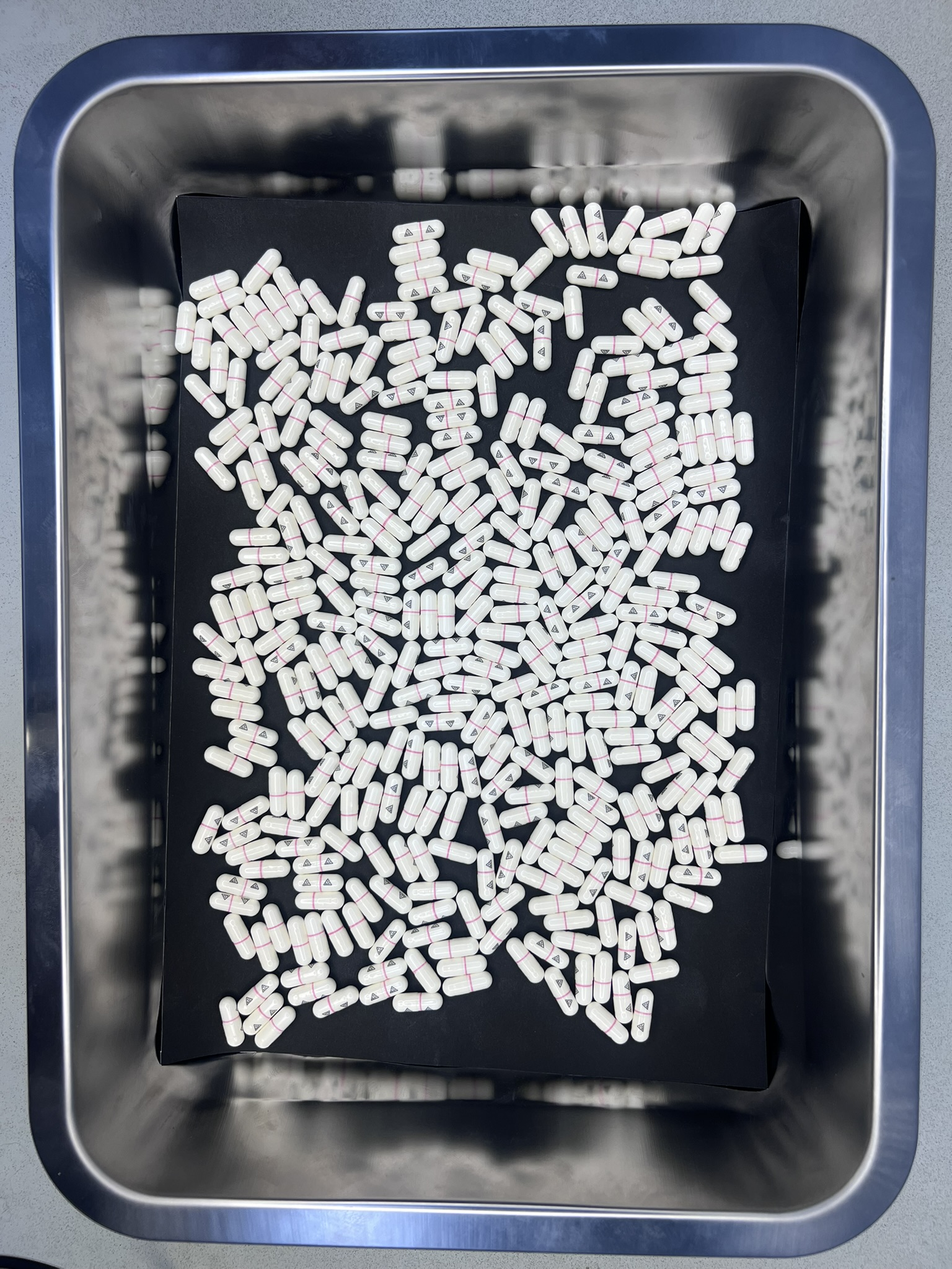Capsule: (194, 446, 237, 497), (689, 279, 736, 324), (185, 374, 227, 424), (691, 310, 738, 354), (208, 406, 255, 449), (397, 474, 436, 525), (236, 971, 281, 1015), (241, 992, 286, 1036), (676, 645, 721, 689), (538, 422, 585, 464), (306, 409, 354, 450), (687, 635, 735, 676), (530, 208, 569, 258), (561, 584, 606, 627), (486, 294, 533, 335), (524, 619, 565, 666), (489, 319, 529, 367), (409, 488, 449, 536), (506, 937, 546, 985), (642, 493, 690, 533), (633, 638, 682, 677), (475, 331, 514, 380), (683, 203, 719, 256), (582, 448, 635, 484), (241, 249, 284, 293), (676, 671, 719, 715), (552, 564, 596, 607), (211, 313, 253, 358), (478, 910, 520, 955), (702, 201, 737, 255), (657, 699, 699, 744), (609, 205, 646, 256), (634, 456, 685, 493), (641, 298, 682, 344), (280, 450, 321, 496), (193, 623, 239, 664), (303, 428, 349, 469), (243, 294, 283, 341), (300, 278, 338, 327), (253, 1004, 296, 1047), (586, 1002, 629, 1045), (437, 482, 480, 525), (480, 762, 522, 806), (644, 685, 686, 729), (622, 307, 666, 349), (360, 517, 405, 558), (656, 767, 697, 812), (676, 732, 721, 773), (271, 370, 311, 416), (454, 565, 494, 611), (317, 573, 357, 619), (621, 422, 672, 458), (272, 266, 308, 317), (260, 357, 299, 404), (368, 918, 407, 965), (566, 804, 613, 843), (509, 745, 556, 784), (302, 752, 341, 799), (254, 618, 301, 657), (254, 332, 302, 370), (320, 694, 358, 742), (208, 592, 241, 647), (512, 247, 554, 290), (454, 595, 496, 638), (341, 375, 385, 416), (564, 524, 605, 568), (355, 625, 399, 666), (545, 965, 579, 1018), (263, 633, 308, 673), (397, 442, 433, 492), (404, 948, 443, 994), (523, 930, 569, 969), (598, 568, 637, 614), (441, 549, 487, 588), (229, 304, 268, 350), (406, 523, 453, 561), (278, 398, 313, 449), (452, 261, 506, 294), (386, 354, 438, 388), (203, 745, 255, 779), (191, 804, 225, 856), (188, 268, 240, 302), (210, 821, 262, 855), (719, 748, 755, 797), (221, 794, 270, 830), (413, 788, 449, 837), (218, 423, 260, 465), (299, 446, 341, 488), (368, 874, 411, 915), (455, 494, 498, 535), (481, 881, 525, 921), (689, 720, 733, 760), (678, 771, 717, 816), (449, 521, 494, 560), (635, 476, 685, 511), (460, 698, 497, 745), (318, 631, 355, 678), (257, 483, 294, 530), (710, 501, 742, 555), (634, 529, 670, 577), (530, 494, 566, 542), (319, 822, 362, 862), (345, 878, 384, 922), (577, 856, 612, 905), (521, 817, 556, 866), (631, 437, 680, 472), (573, 786, 618, 824), (655, 334, 710, 365), (358, 831, 395, 877), (573, 766, 619, 803), (351, 335, 385, 385), (305, 642, 339, 692), (639, 207, 692, 239), (473, 710, 509, 757), (719, 522, 752, 573), (604, 880, 655, 913), (491, 509, 532, 550), (517, 641, 557, 683), (369, 502, 411, 542), (306, 543, 349, 582), (455, 305, 486, 359), (260, 283, 297, 328), (556, 820, 602, 856), (305, 780, 341, 826), (632, 783, 665, 833), (531, 542, 564, 592), (442, 457, 489, 492), (306, 712, 346, 753), (288, 718, 326, 761), (344, 901, 378, 949), (668, 607, 719, 639), (341, 634, 375, 682), (390, 639, 422, 690), (402, 556, 450, 590), (305, 352, 335, 406), (587, 492, 623, 537), (352, 740, 385, 789), (537, 595, 570, 644), (595, 540, 630, 586), (491, 441, 526, 487), (321, 910, 353, 960), (360, 975, 410, 1007), (641, 752, 691, 784), (312, 986, 359, 1020), (575, 507, 613, 549), (438, 791, 468, 844), (609, 388, 662, 418), (277, 509, 307, 562), (363, 664, 396, 712), (427, 445, 475, 478), (547, 839, 595, 872), (486, 467, 519, 515), (668, 507, 699, 558), (539, 471, 590, 502), (456, 888, 487, 939), (617, 791, 648, 842), (388, 335, 439, 366), (235, 638, 267, 687), (237, 455, 266, 509), (567, 348, 596, 402), (263, 905, 292, 959), (538, 853, 584, 887), (623, 402, 675, 432), (559, 206, 589, 258), (689, 504, 719, 556), (585, 727, 615, 779), (359, 467, 398, 507), (334, 737, 367, 784), (606, 620, 637, 670), (228, 589, 259, 639), (494, 837, 523, 890), (223, 913, 255, 961), (324, 352, 354, 403), (392, 678, 443, 708), (471, 639, 522, 669), (248, 441, 278, 492), (389, 834, 420, 883), (521, 678, 570, 709), (692, 595, 738, 628), (431, 285, 485, 313), (435, 307, 463, 361), (254, 401, 281, 457), (227, 737, 274, 769), (518, 397, 548, 447), (663, 883, 713, 913), (225, 837, 275, 867), (629, 665, 659, 715), (489, 673, 539, 703), (587, 472, 637, 502), (480, 735, 514, 779), (515, 290, 563, 321), (580, 372, 608, 425), (676, 371, 733, 397), (321, 494, 358, 534), (247, 582, 276, 633), (398, 787, 428, 836), (276, 667, 306, 716), (291, 495, 321, 544), (377, 725, 408, 772), (338, 276, 366, 328), (341, 468, 369, 520), (378, 379, 428, 408), (612, 661, 641, 711), (515, 864, 563, 894), (395, 256, 448, 283), (357, 780, 384, 833), (567, 613, 620, 640), (211, 565, 262, 593), (467, 248, 518, 276), (619, 501, 647, 552), (336, 682, 367, 728), (686, 816, 713, 868), (388, 240, 442, 266), (526, 707, 553, 759), (266, 577, 318, 604), (627, 366, 681, 392), (583, 202, 608, 258), (403, 921, 453, 949), (250, 918, 278, 968), (636, 621, 686, 649), (500, 392, 529, 440), (230, 720, 278, 749), (288, 977, 336, 1006), (410, 833, 439, 881), (547, 528, 576, 576), (355, 606, 401, 636), (210, 697, 263, 723), (287, 913, 313, 966), (668, 812, 694, 865), (684, 463, 735, 490), (304, 912, 331, 963), (378, 772, 405, 823), (625, 585, 682, 609), (361, 412, 413, 438), (406, 900, 458, 926), (498, 803, 550, 829), (460, 655, 512, 681), (360, 429, 412, 455), (320, 326, 370, 353), (680, 390, 734, 415), (617, 254, 671, 279), (210, 889, 260, 916), (505, 699, 532, 749), (217, 873, 265, 901), (515, 479, 541, 530), (306, 610, 357, 636), (272, 594, 323, 620), (687, 479, 740, 504), (366, 704, 419, 729), (192, 659, 245, 684), (358, 957, 407, 984), (520, 449, 569, 476), (669, 255, 724, 279), (206, 679, 261, 703), (197, 289, 239, 320), (550, 931, 602, 956), (635, 911, 660, 963), (431, 936, 481, 962), (720, 791, 746, 841), (629, 958, 679, 984), (393, 220, 445, 245), (653, 900, 678, 952), (554, 653, 606, 678), (563, 633, 613, 659), (483, 542, 533, 568), (352, 589, 402, 615), (631, 988, 654, 1044), (648, 839, 673, 890), (263, 559, 314, 584), (282, 962, 331, 988), (628, 237, 681, 261), (675, 412, 699, 465), (225, 354, 248, 409), (356, 448, 406, 473), (566, 264, 616, 289), (441, 972, 491, 997), (218, 996, 243, 1046), (480, 804, 505, 854), (457, 748, 482, 798), (570, 670, 620, 695), (490, 581, 540, 606), (602, 354, 654, 378), (436, 954, 488, 978), (431, 425, 483, 449), (630, 839, 654, 891), (542, 909, 596, 932), (174, 301, 197, 355), (191, 316, 214, 370), (472, 621, 526, 644), (683, 352, 739, 374), (734, 679, 756, 735), (296, 662, 321, 711), (379, 319, 430, 343), (259, 814, 310, 838), (695, 410, 718, 463), (403, 727, 426, 780), (646, 572, 701, 594), (414, 656, 462, 681), (298, 314, 321, 366), (429, 839, 475, 865), (713, 409, 736, 461), (595, 895, 618, 947), (733, 411, 755, 465), (613, 970, 634, 1026), (347, 555, 403, 576), (668, 865, 719, 888), (293, 852, 344, 875), (573, 424, 624, 447), (704, 796, 727, 847), (563, 285, 584, 340), (713, 844, 768, 865), (404, 880, 459, 901), (491, 563, 541, 586), (476, 365, 498, 417), (275, 836, 327, 858), (565, 711, 587, 763), (350, 572, 402, 594), (715, 686, 736, 740), (616, 603, 670, 624), (321, 534, 375, 555), (528, 892, 579, 914), (505, 783, 558, 804), (439, 741, 460, 794), (367, 301, 417, 323), (422, 639, 477, 659), (617, 917, 638, 969), (610, 744, 662, 765), (441, 675, 493, 696), (398, 279, 445, 302), (209, 342, 229, 396), (590, 336, 644, 356), (562, 692, 616, 712), (575, 952, 594, 1008), (238, 547, 291, 567), (612, 828, 632, 881), (426, 370, 476, 391), (393, 992, 443, 1013), (547, 702, 568, 752), (533, 318, 553, 370), (240, 859, 289, 880), (294, 872, 343, 893), (424, 392, 473, 413), (428, 410, 477, 431), (593, 950, 612, 1004), (478, 848, 497, 901), (421, 738, 440, 791), (586, 710, 639, 729), (295, 891, 345, 911), (340, 786, 360, 836), (228, 528, 278, 548), (418, 713, 468, 733), (437, 588, 457, 638), (603, 727, 655, 746), (267, 767, 287, 816), (400, 591, 420, 640), (556, 757, 575, 808), (286, 770, 306, 817), (420, 590, 438, 639), (429, 694, 478, 712), (489, 606, 540, 623)
